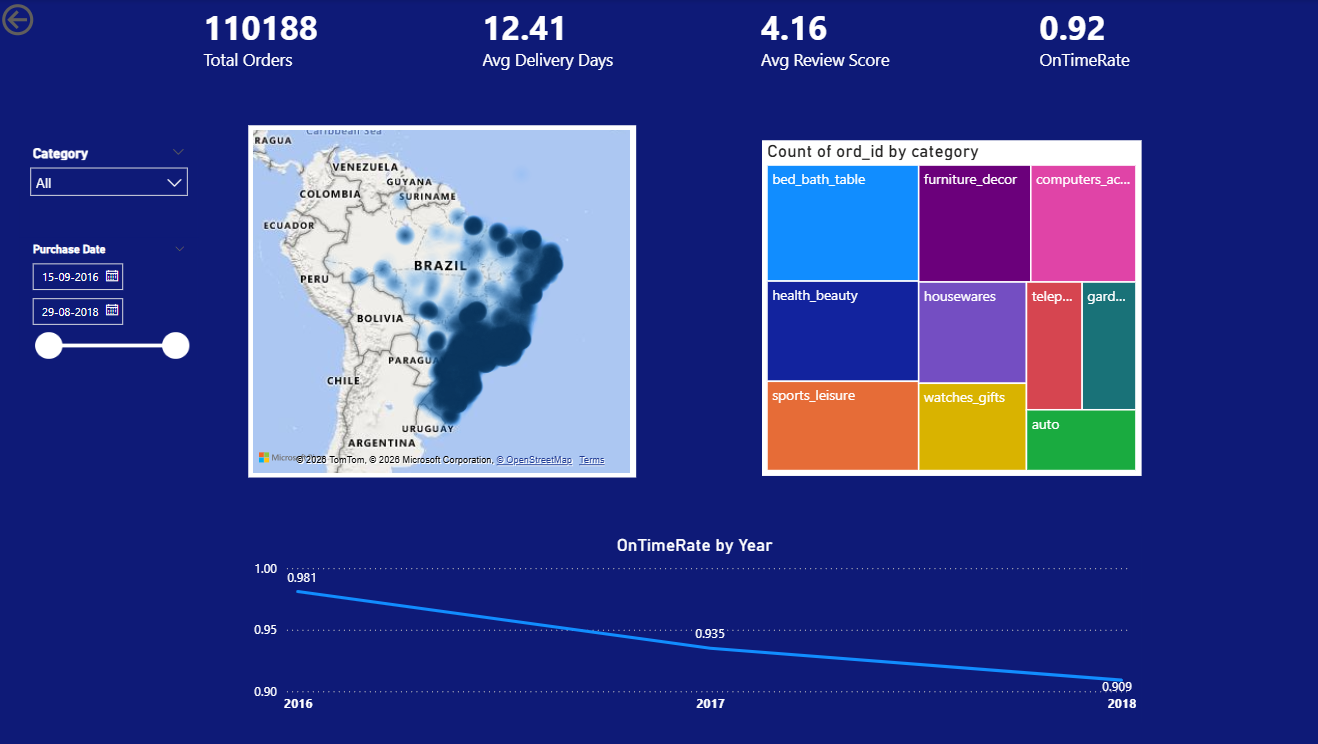

The page's visual inventory and layout, read from the dashboard file:
{"tool":"powerbi","page":{"name":"Executive View","canvas":[1280,720],"ordinal":0},"visuals":[{"type":"map","fields":{"Y":["public view_shipping_map.cust_lat"],"X":["public view_shipping_map.cust_lng"],"Size":["CountNonNull(public view_logistics_performance.ord_id)"]},"box":[242,122,374,340],"z":0},{"type":"slicer","fields":{"Values":["public view_products_master.category"]},"box":[22,136,172,94],"z":2000},{"type":"slicer","fields":{"Values":["public view_logistics_performance.purchased_at"]},"box":[22,230,172,122],"z":3000},{"type":"multiRowCard","fields":{"Values":["public view_logistics_performance.ord_id","Avg(public view_logistics_performance.total_lead_time)","Avg(public view_customer_feedback.score)","public view_logistics_performance.OnTimeRate"]},"box":[194,0,1086,86],"z":4000},{"type":"actionButton","box":[0,0,100,40],"z":5000},{"type":"lineChart","fields":{"Category":["public view_logistics_performance.purchased_at.Variation.Date Hierarchy.Year","public view_logistics_performance.purchased_at.Variation.Date Hierarchy.Quarter","public view_logistics_performance.purchased_at.Variation.Date Hierarchy.Month","public view_logistics_performance.purchased_at.Variation.Date Hierarchy.Day"],"Y":["public view_logistics_performance.OnTimeRate"]},"box":[242,516,862,182],"z":6000},{"type":"treemap","fields":{"Group":["public view_products_master.category"],"Values":["CountNonNull(public view_products_master.ord_id)"]},"box":[738,136,366,324],"z":7000}]}

Visuals, with their boxes in screenshot pixels (x1, y1, x2, y2), scaled from the page's 1280x720 canvas onto the 1318x744 screenshot:
map - public view_shipping_map.cust_lat x public view_shipping_map.cust_lng: x1=249 y1=126 x2=634 y2=477
slicer - public view_products_master.category: x1=23 y1=141 x2=200 y2=238
slicer - public view_logistics_performance.purchased_at: x1=23 y1=238 x2=200 y2=364
multiRowCard - public view_logistics_performance.ord_id x Avg(public view_logistics_performance.total_lead_time): x1=200 y1=0 x2=1317 y2=89
actionButton: x1=0 y1=0 x2=103 y2=41
lineChart - public view_logistics_performance.purchased_at.Variation.Date Hierarchy.Year x public view_logistics_performance.purchased_at.Variation.Date Hierarchy.Quarter: x1=249 y1=533 x2=1137 y2=721
treemap - public view_products_master.category x CountNonNull(public view_products_master.ord_id): x1=760 y1=141 x2=1137 y2=475
